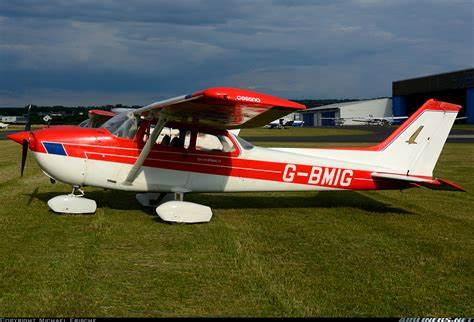Aeronef_de_loisir: (3, 79, 471, 231)
